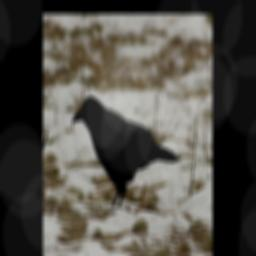Crow: (68, 89, 179, 210)
